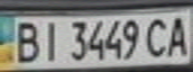3: (63, 18, 87, 61)
4: (87, 17, 109, 61), (103, 16, 124, 61)
9: (121, 16, 145, 61)
A: (163, 12, 190, 59)
B: (6, 18, 42, 64)
C: (142, 15, 172, 58)
I: (36, 18, 66, 62)
